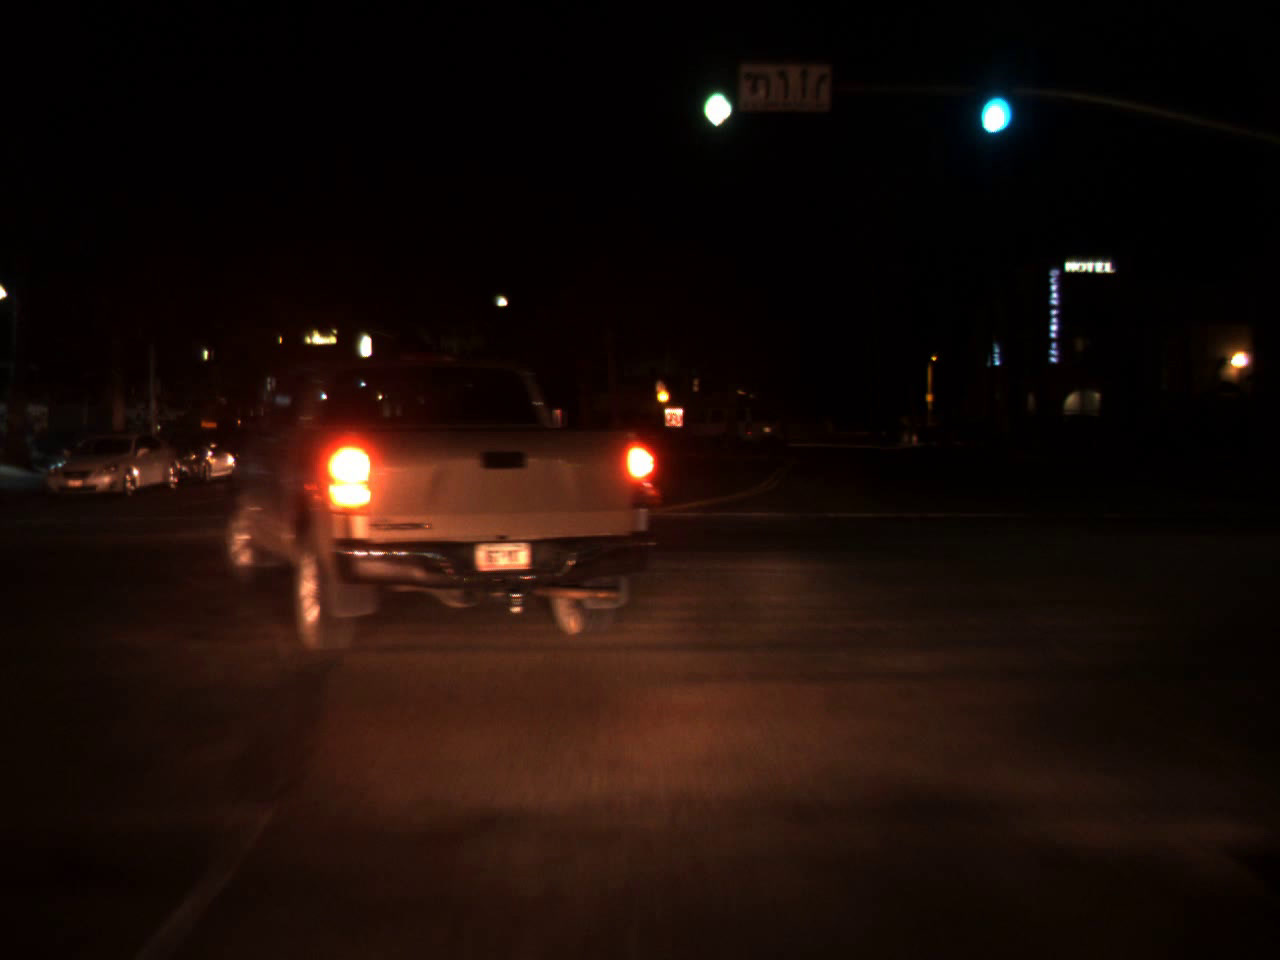go: (694, 52, 737, 139), (970, 64, 1007, 142)
